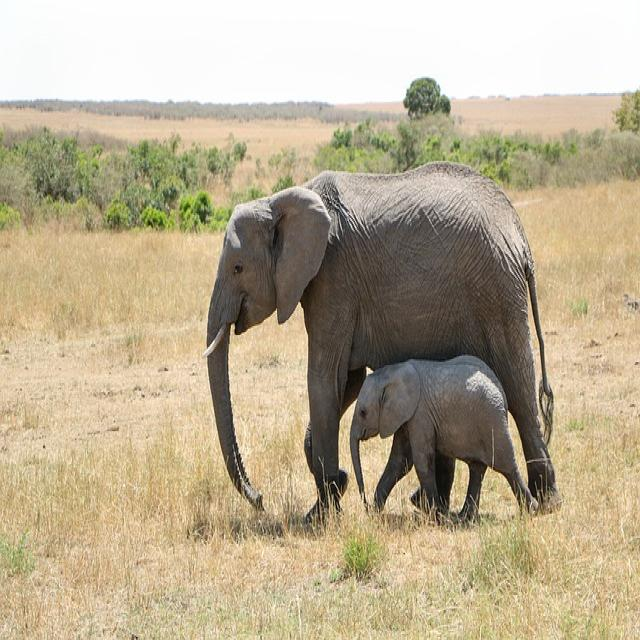elephant: (206, 163, 555, 517), (350, 357, 538, 517)
